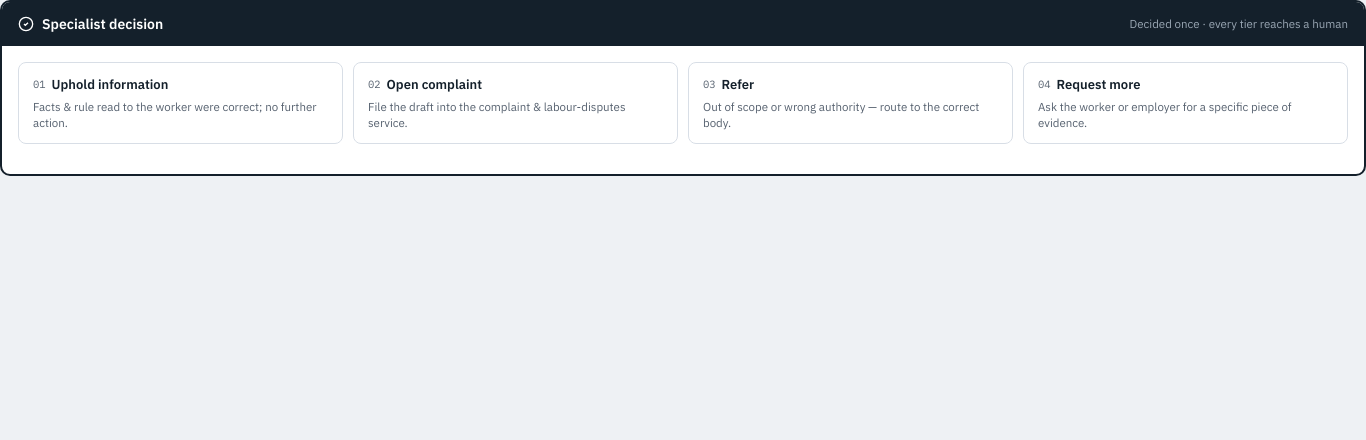
Scenario: DecisionPanel — failed submission › shows an error alert on network failure and keeps the form editable
The width and height of the screenshot is (1366, 440).
Click the radio button labelled "Refer": (850, 103) [688,62,1013,144]
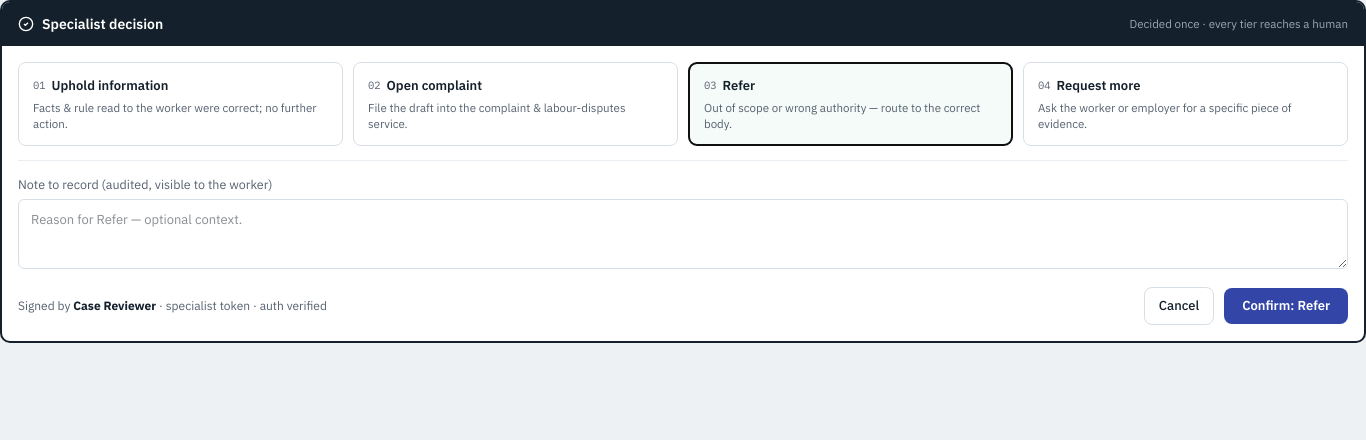
Click the button "Confirm: Refer": (1286, 306) [1224,288,1348,324]
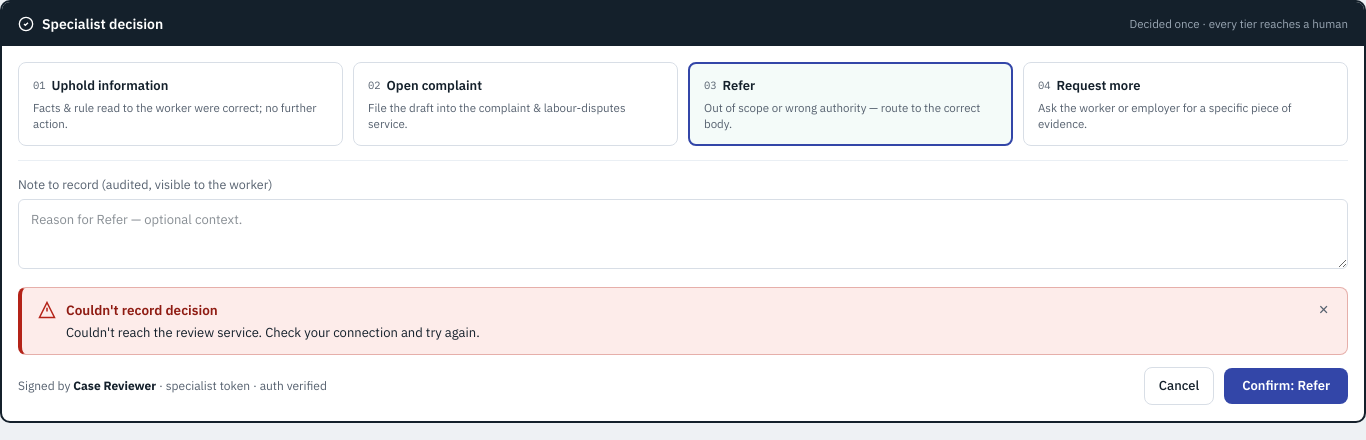
expect the text box labelled "Note to record (audited, visible to the worker)" is shown: met, box [18,199,1348,269]
expect the text "Couldn't record decision" is shown: met, box [66,301,218,319]
expect the text "Couldn't reach the review service" is shown: met, box [66,324,480,341]
